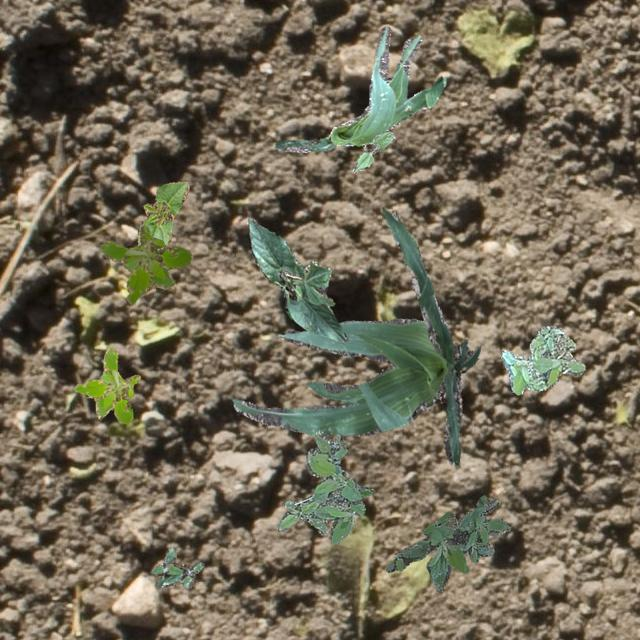crop: (232, 206, 478, 464), (274, 23, 444, 152), (246, 216, 346, 342), (136, 180, 188, 248), (352, 130, 394, 172)
weed: (384, 494, 510, 592), (276, 428, 372, 544), (98, 223, 190, 304), (499, 324, 584, 394), (74, 347, 140, 422), (150, 546, 202, 588)
